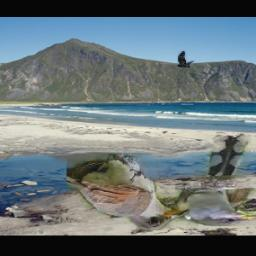Crow: (177, 50, 195, 67)
Cuckoo: (65, 154, 188, 230), (175, 134, 256, 227)
